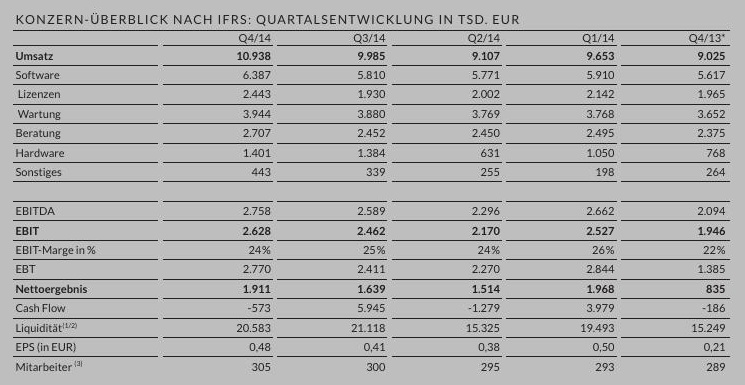table: (0, 0, 745, 385)
